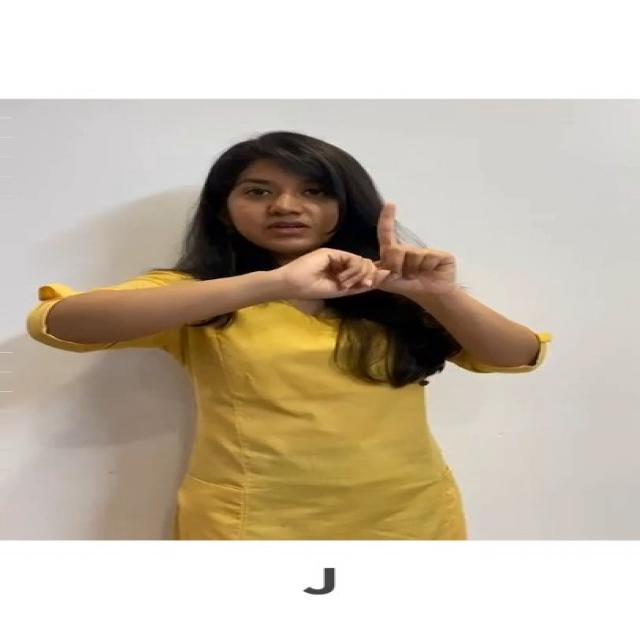J: (276, 192, 494, 308)
